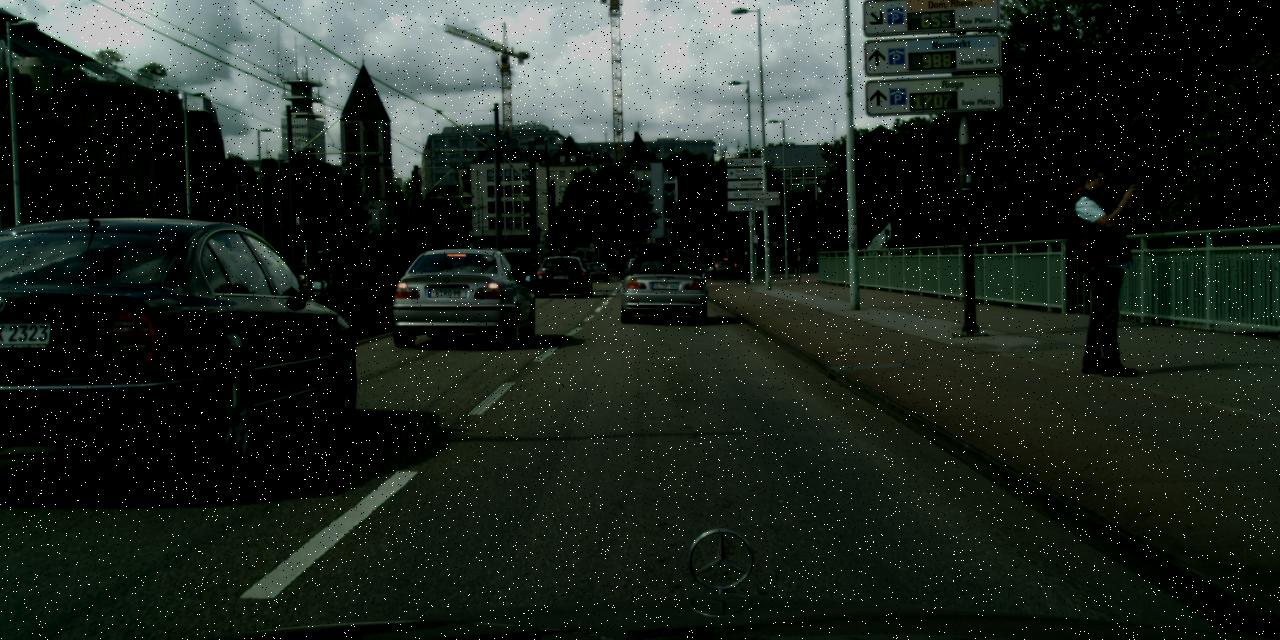ped: (1058, 164, 1144, 373), (791, 248, 804, 282), (810, 248, 819, 271), (777, 256, 784, 274)
